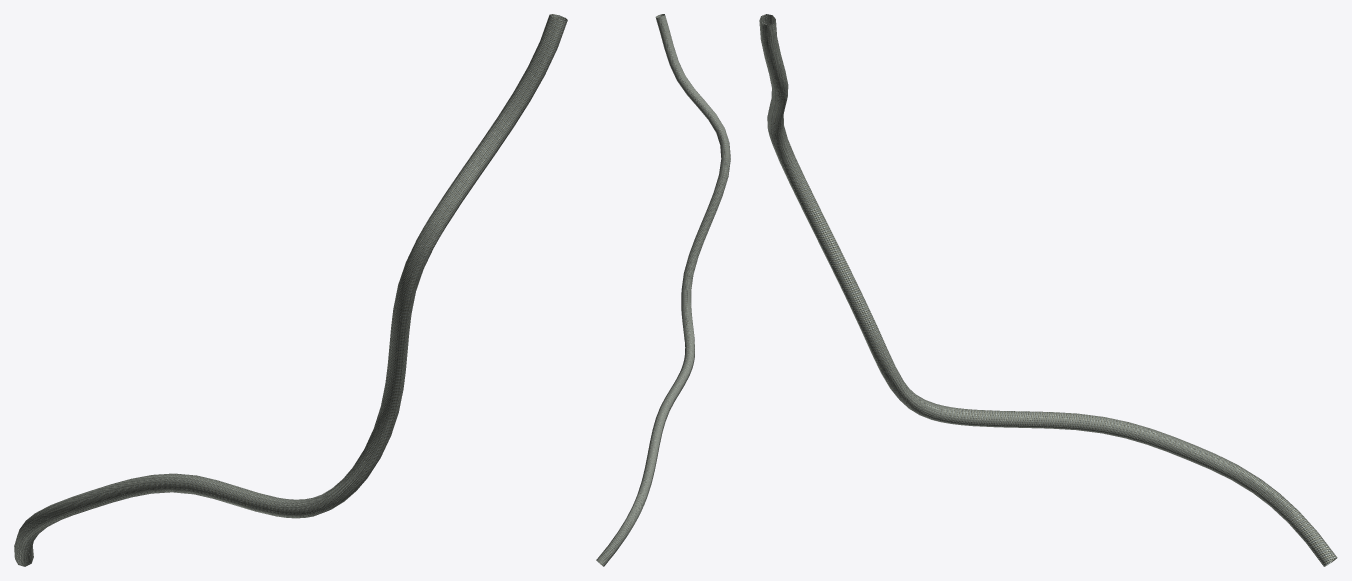
File: microtubule27.fbx
3 views of the same model, side by side, from view 1: azimuth 30°, elevation 25°; view 2: azimuth 150°, elevation 25°; view 3: azimuth 270°, elevation 25° (orthographic). The views are drawn at different scales.
Visible parts, largest first — view 1: microtubule27; view 2: microtubule27; view 3: microtubule27.
Part boxes in pixels (x1,y1,x2,y2): microtubule27: (14,14,567,566); microtubule27: (596,14,730,566); microtubule27: (759,14,1337,566).
Size of the model in its own units: 2282 by 6352 by 5197.
1 material, 1 textured.
